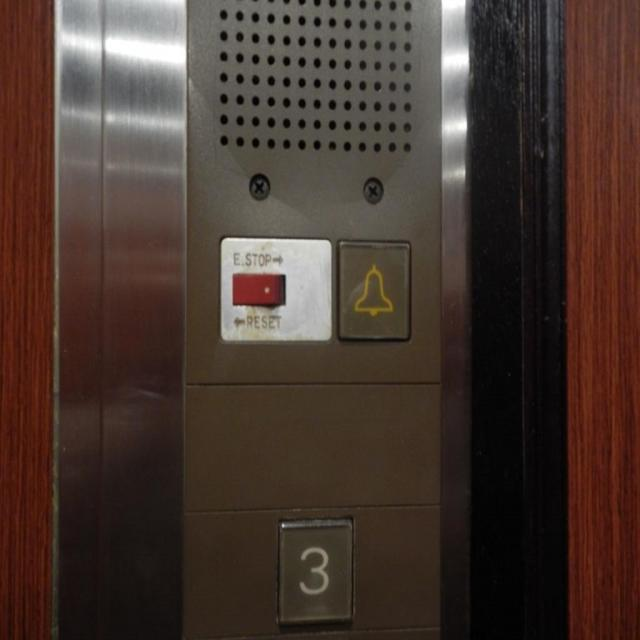3: (272, 516, 354, 626)
alarm: (334, 236, 411, 343)
switch: (216, 234, 334, 344)
